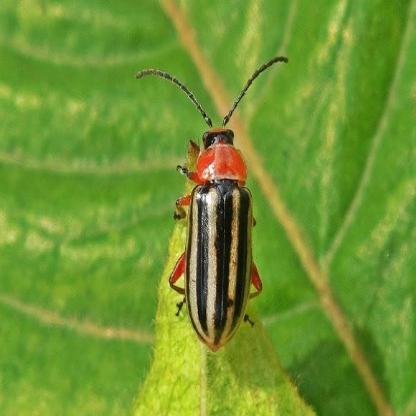beetle: (151, 62, 294, 350)
